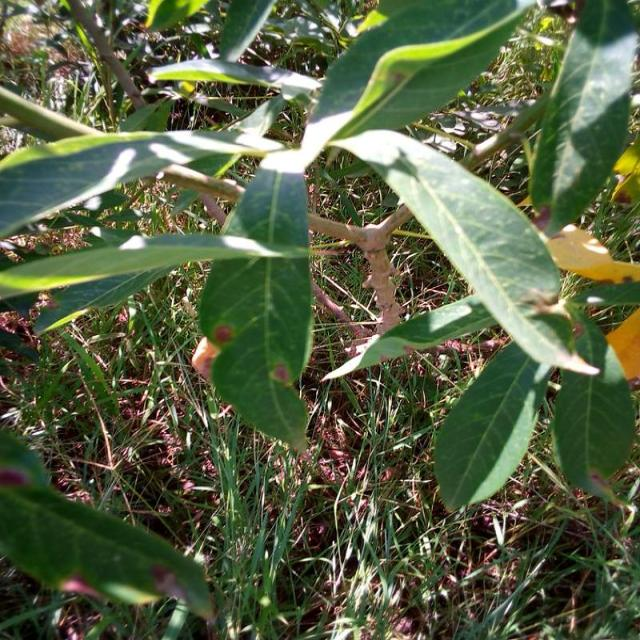cassava leaf: (326, 126, 600, 377), (196, 164, 314, 454), (530, 0, 639, 236), (434, 337, 552, 512), (551, 310, 638, 502)
